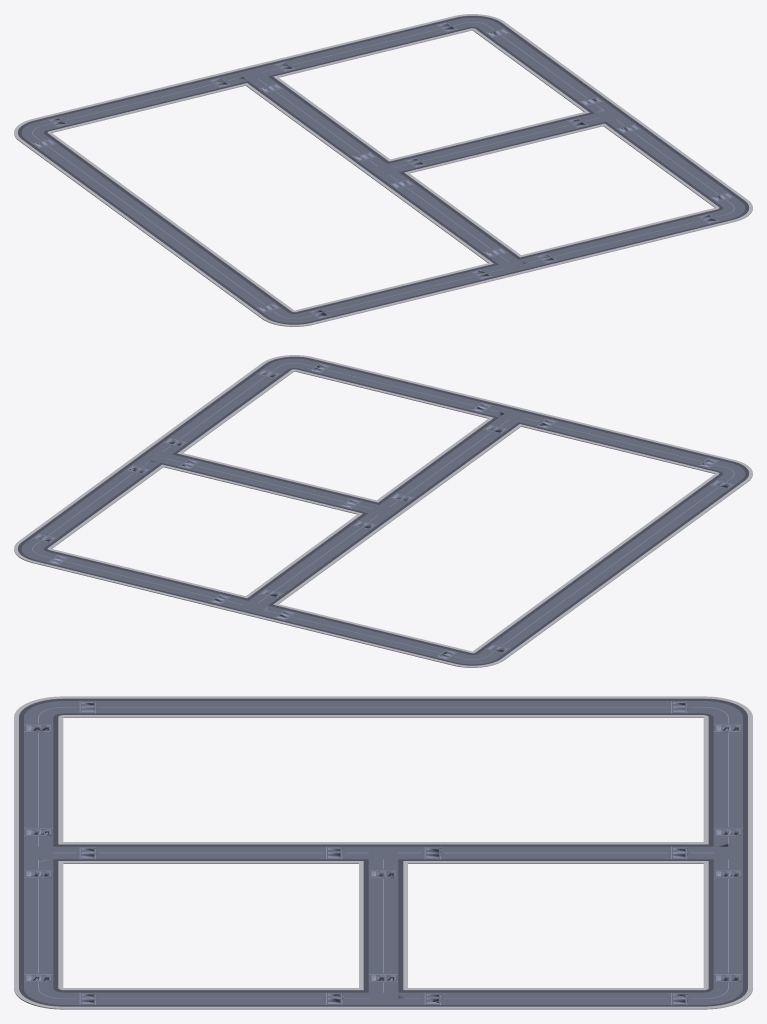
File: calle.obj
The picture shows the model from 3 angles, top to bottom: view 1: azimuth 30°, elevation 25°; view 2: azimuth 150°, elevation 25°; view 3: azimuth 270°, elevation 25°; orthographic projection. The views are drawn at different scales.
Parts seen in each view (by area): view 1: road_crossing.002_road_crossing.003; view 2: road_crossing.002_road_crossing.003; view 3: road_crossing.002_road_crossing.003.
Part boxes in pixels (left/top/right/bottom): road_crossing.002_road_crossing.003: left=14, top=14, right=752, bottom=326; road_crossing.002_road_crossing.003: left=14, top=355, right=752, bottom=667; road_crossing.002_road_crossing.003: left=14, top=696, right=752, bottom=1009.
Size of the model in its own units: 15 by 0.02 by 15.
